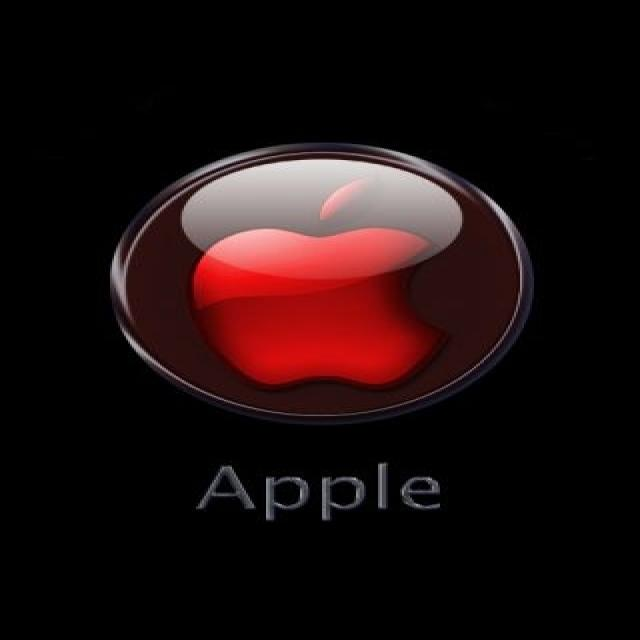apple: (183, 168, 461, 396)
